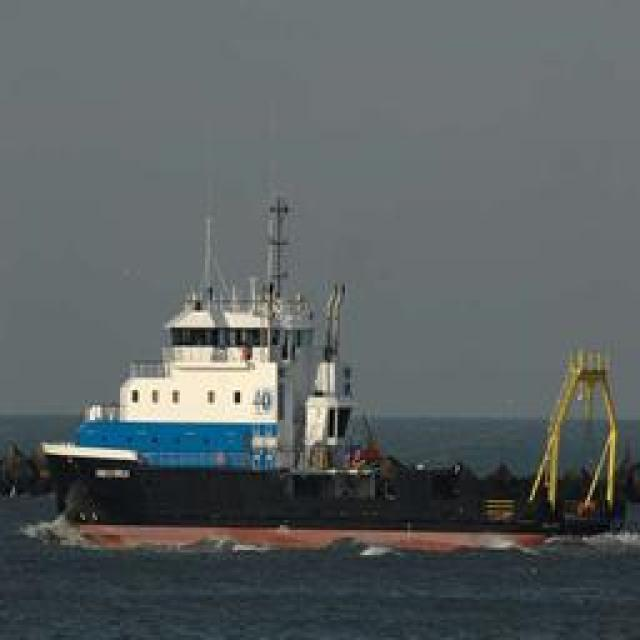CIV_Ship: (41, 192, 449, 528)
